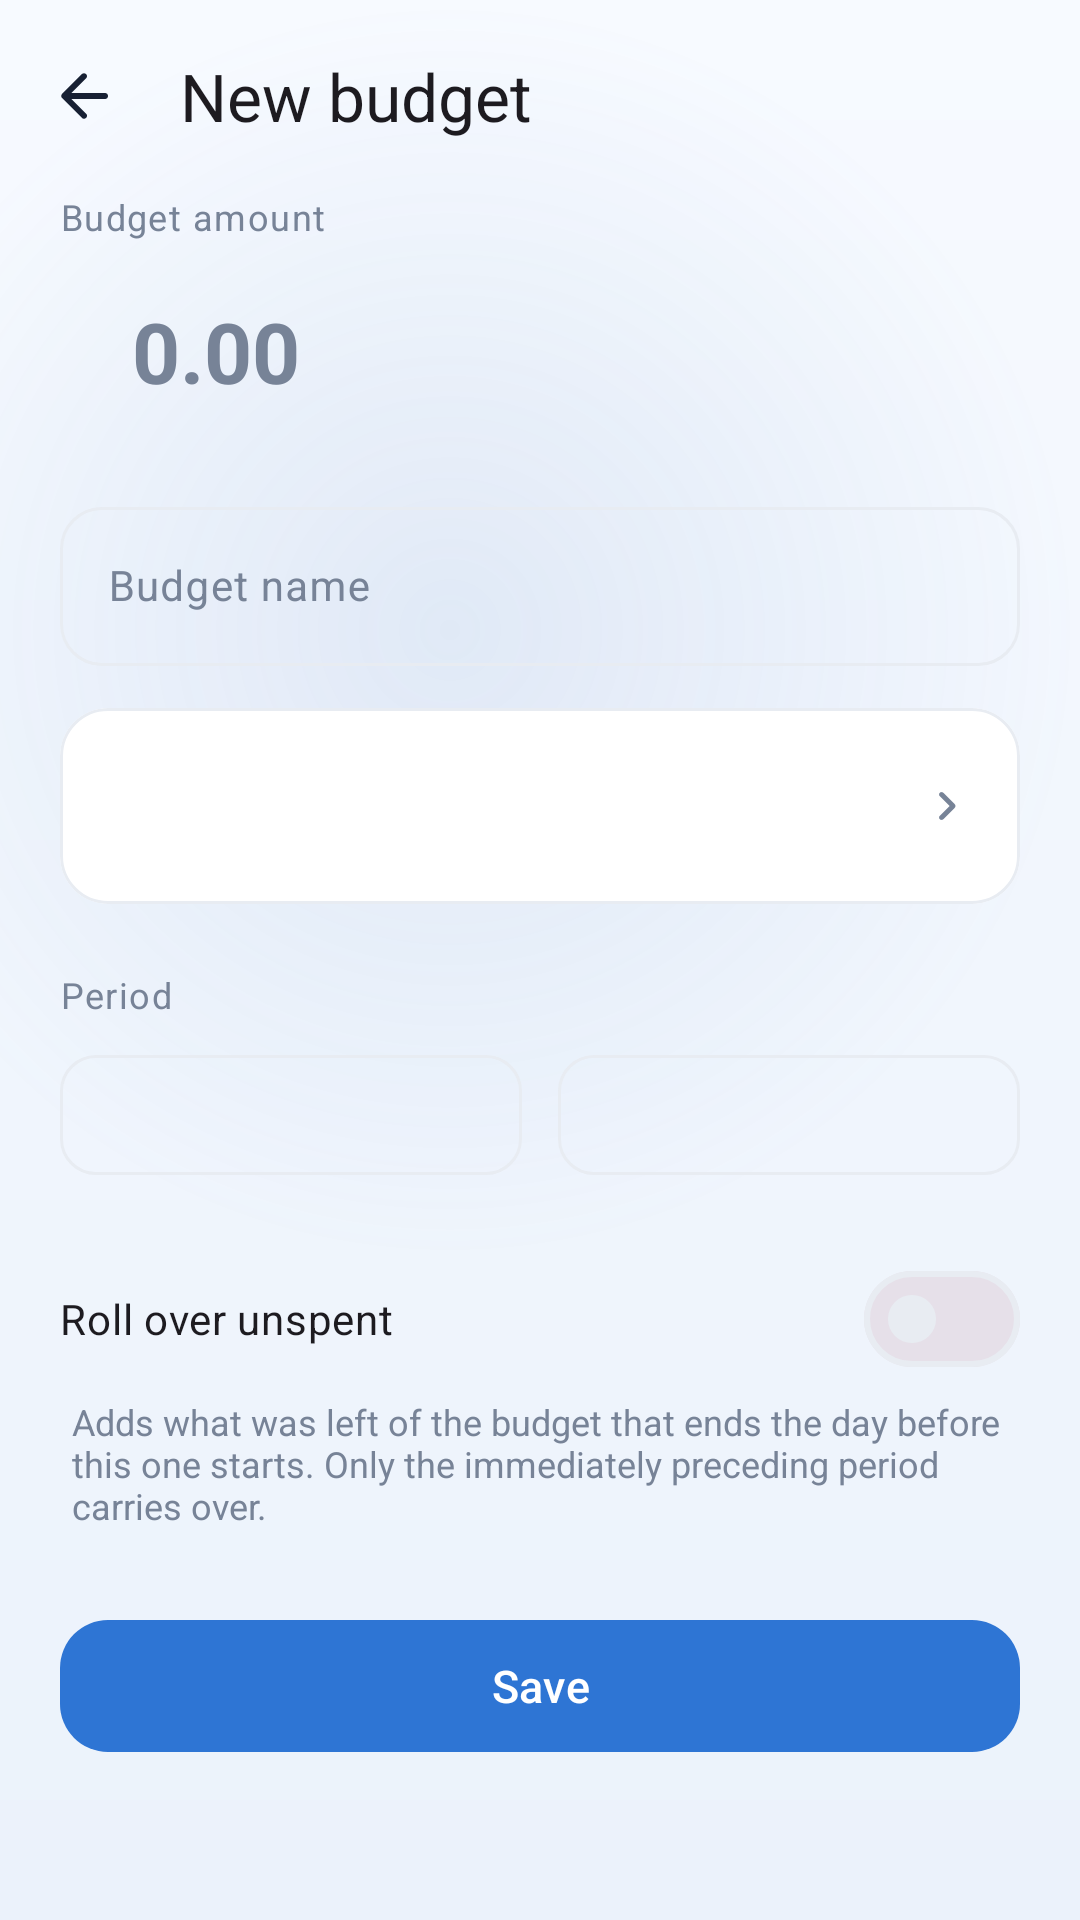

Where icons sit on this 1080 × 1920 app screen, as (x1, y1, x2, y2):
chevron right: (939, 792, 956, 820)
